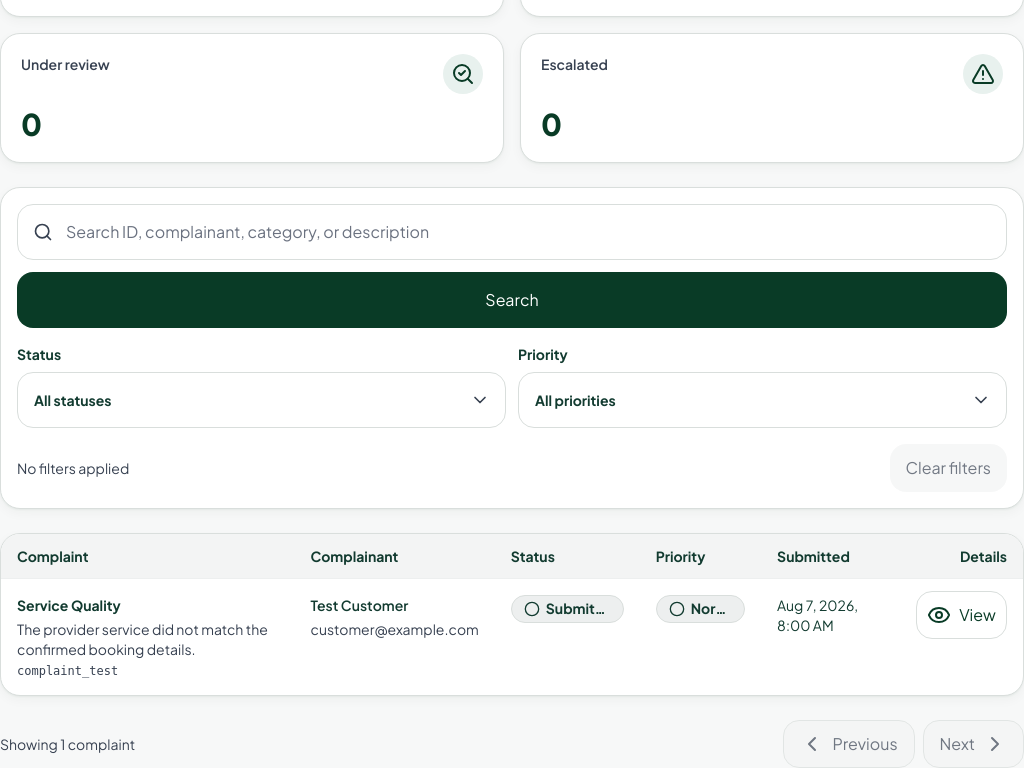
Test: admin complaints management › opens complaint details and the controlled decision dialog
The width and height of the screenshot is (1024, 768).
(page scrolled)
Click the button with aria-label "View complaint complaint_test" at (962, 615), box [916,591,1007,639]
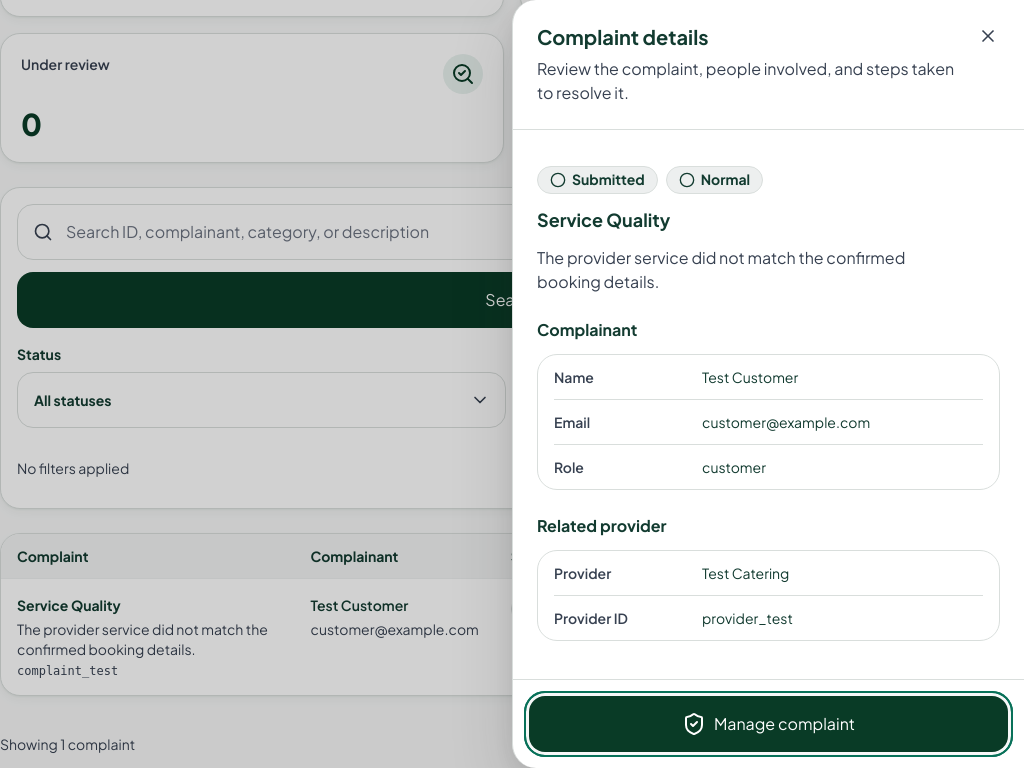
Now the heading "Complaint details" is shown, box [537,24,708,49]
Click the button "Manage complaint" at (768, 724), box [529,696,1008,752]
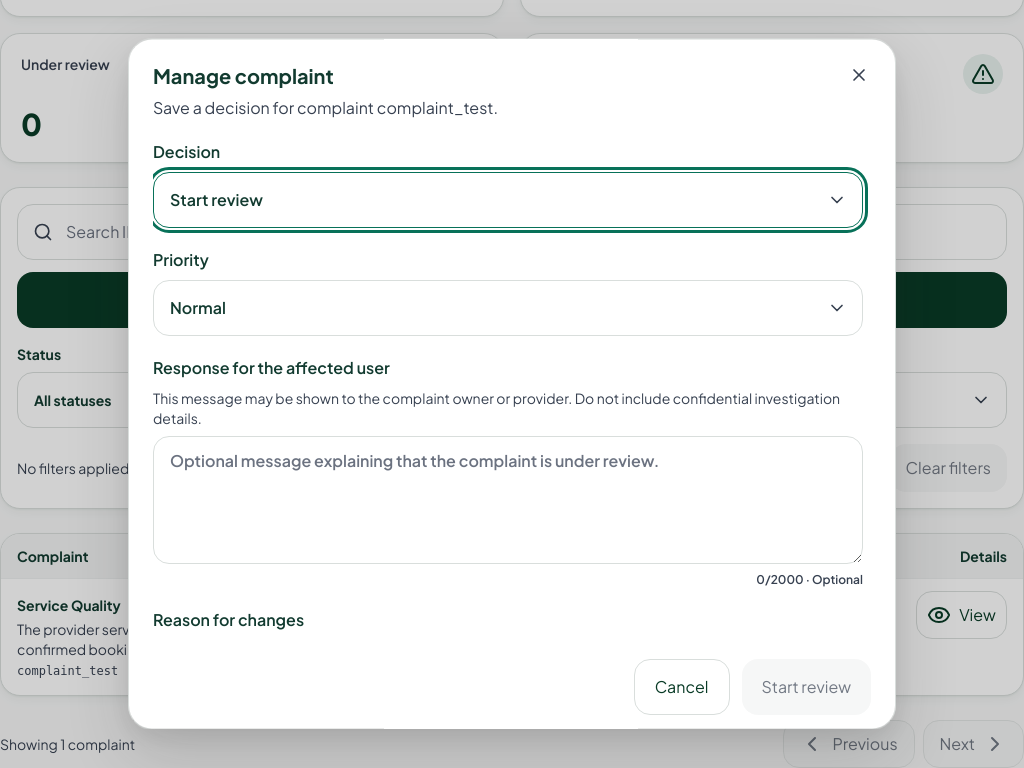
Now the heading "Manage complaint" is shown, box [153,63,334,88]
Now the button "Start review" is disabled, box [742,660,871,716]
